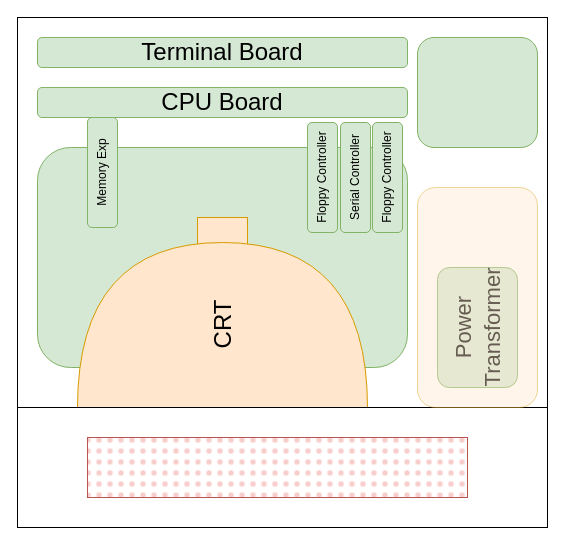
This 565x545 diagram has some shape labels left out. Each missing label, with the box of its shape:
CRT Board: (36, 146, 408, 368)
Floppy Drive: (416, 186, 538, 408)
Keyboard: (86, 436, 468, 498)
Power Supply: (416, 36, 538, 148)
